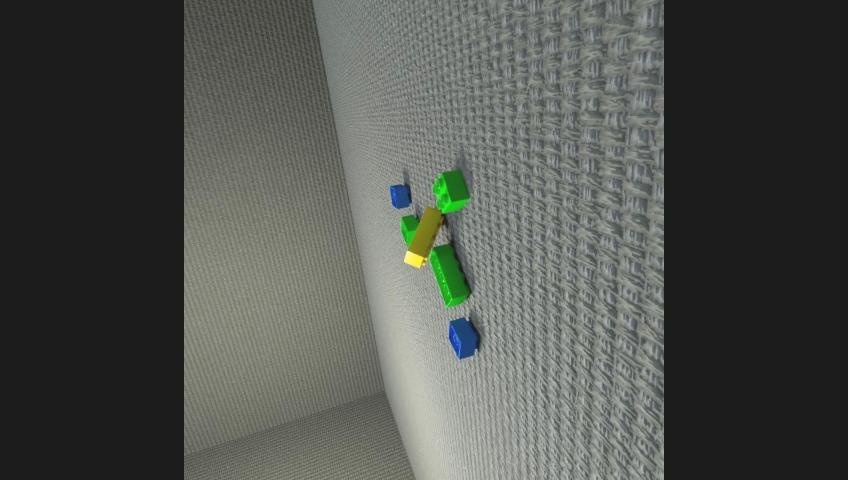2x2_blue: (447, 317, 478, 359), (389, 185, 410, 209)
2x2_green: (431, 170, 468, 213), (400, 215, 418, 246)
4x2_green: (428, 244, 469, 307)
4x2_yellow: (403, 206, 443, 267)
